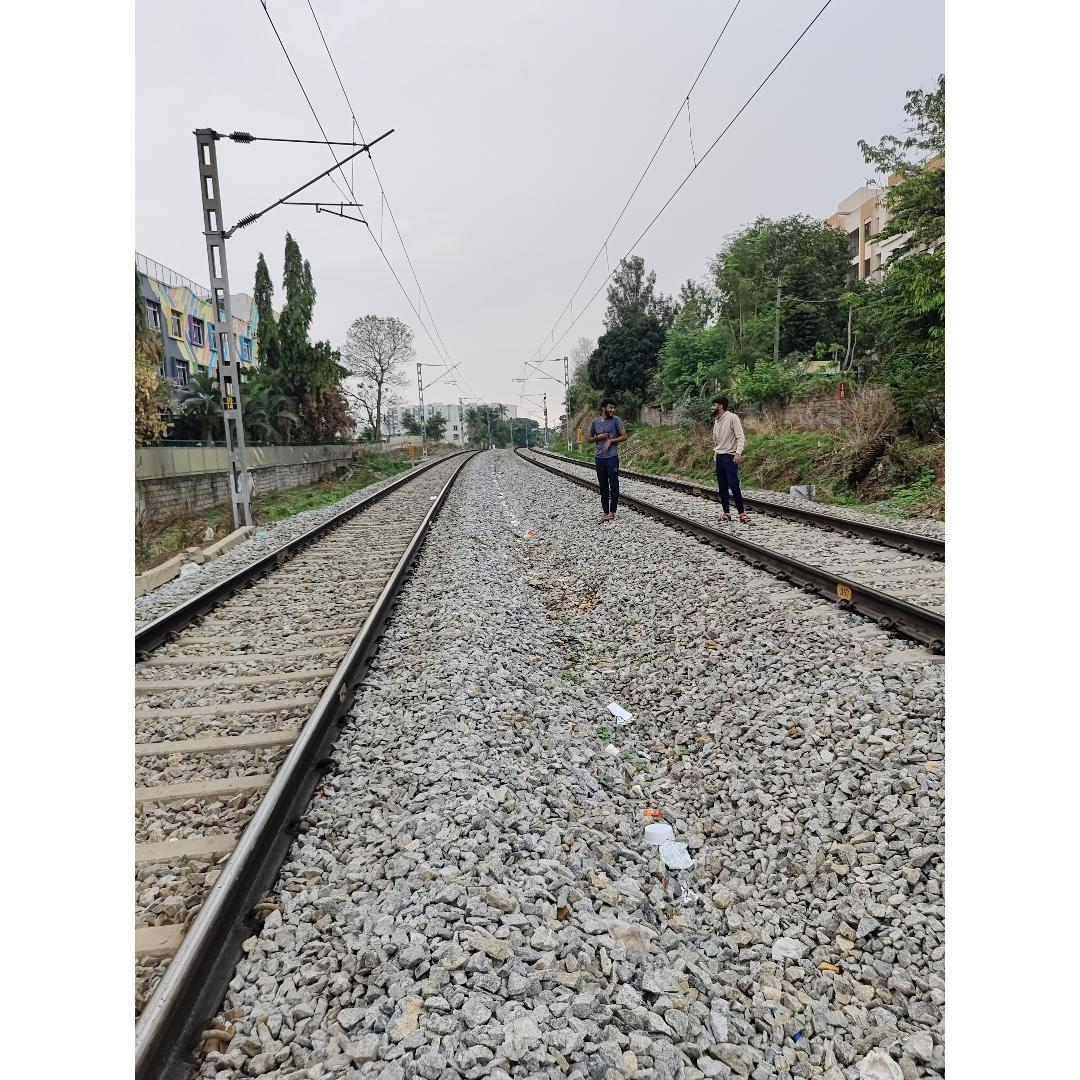standing: (708, 394, 752, 522), (585, 399, 627, 524)
track: (135, 435, 509, 1080), (506, 448, 945, 750)
